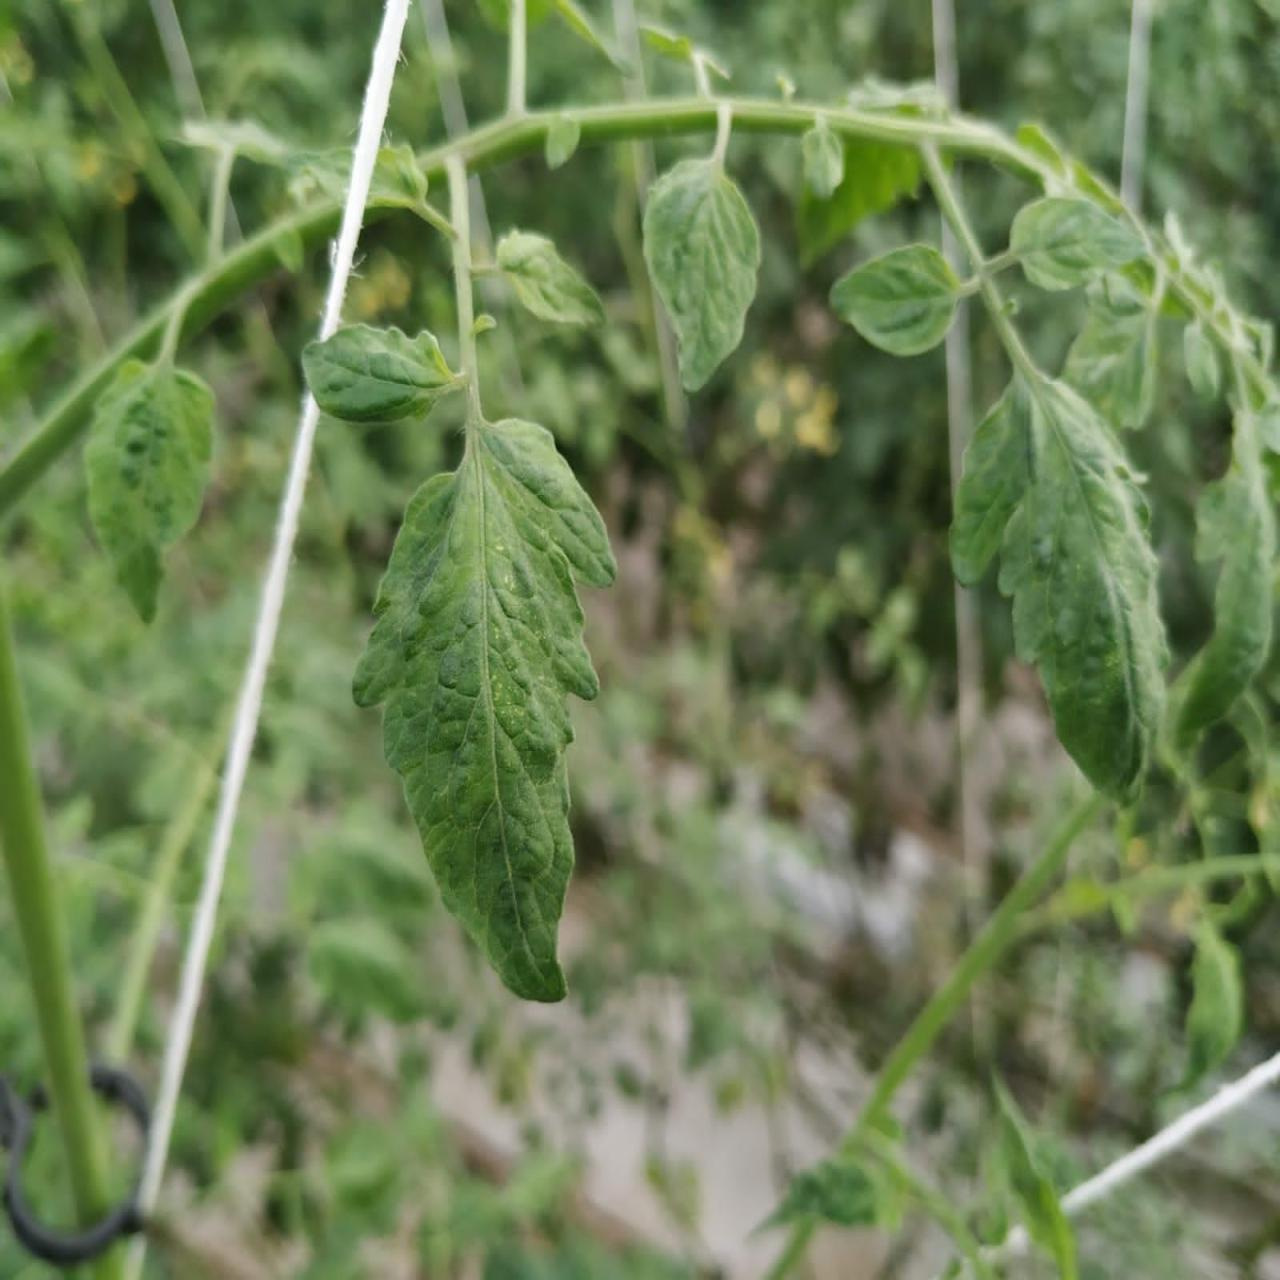T_L_R: (354, 417, 615, 1001), (953, 370, 1167, 798), (644, 156, 761, 389), (299, 324, 458, 418)
